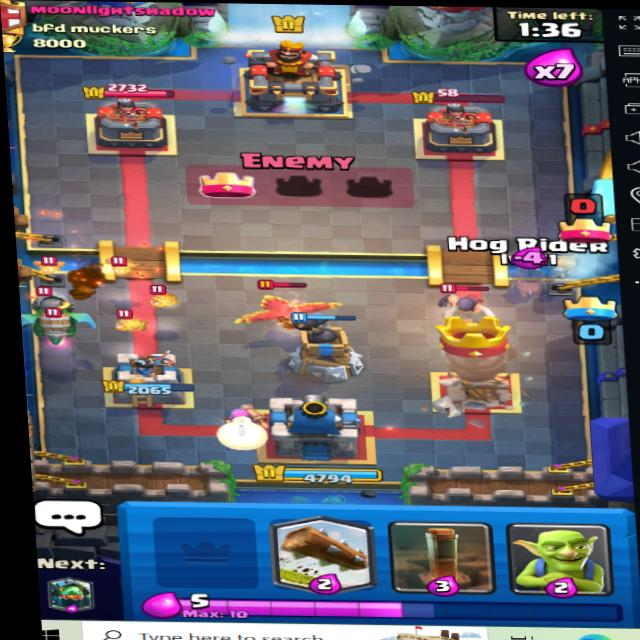executioner: (428, 278, 499, 320)
phoenix: (230, 274, 352, 338)
